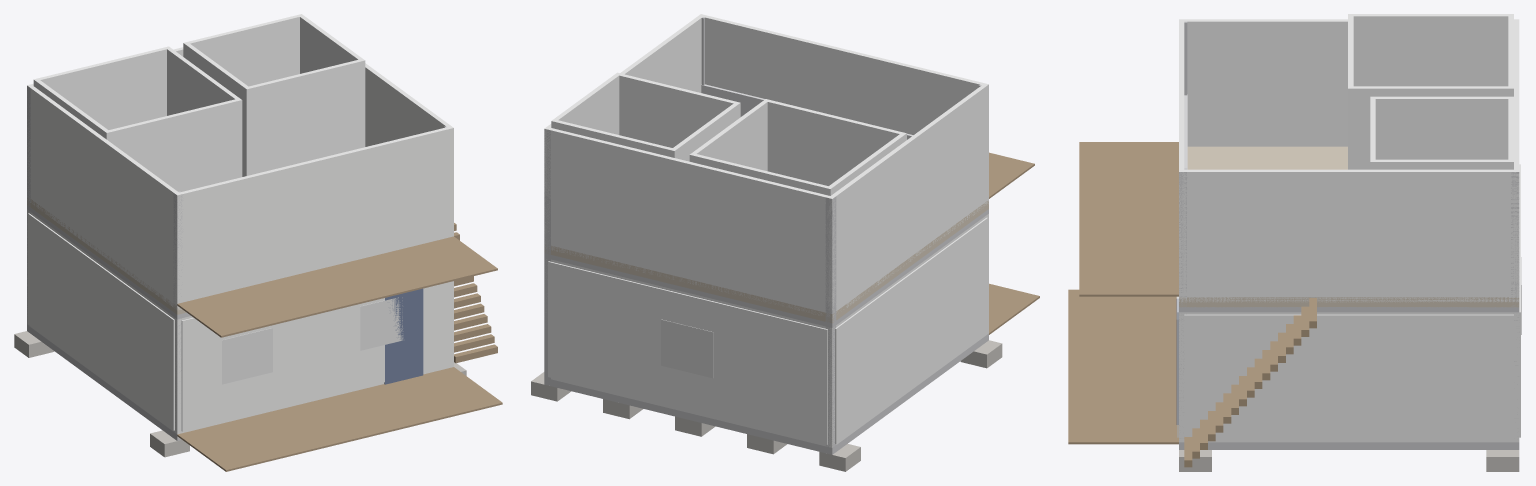
Rendered from Duplex-20-TerraceDeck-LOD1.glb.
The picture shows the model from 3 angles, left to right: view 1: azimuth 30°, elevation 25°; view 2: azimuth 150°, elevation 25°; view 3: azimuth 270°, elevation 25°; orthographic projection. The views are drawn at different scales.
Parts seen in each view (by area): view 1: ExteriorShellUpper, ExteriorPanelsStandard, StudyUpper, BedroomUpper, BalconyUpper, TerraceDeck, WindowsStandard, BalconyGround, EntryDoor, StaircaseExternal, ExteriorShell, FoundationBlocks (+4 smaller); view 2: ExteriorShellUpper, ExteriorPanelsStandard, BedroomUpper, StudyUpper, FloorUpper, VerticalStructure, FoundationBlocks, BaseFrame, ExteriorShell, WindowsStandard, TopFrame, BalconyUpper (+3 smaller); view 3: ExteriorShellUpper, ExteriorPanelsStandard, TerraceDeck, BalconyUpper, BedroomUpper, StudyUpper, FloorUpper, BalconyGround, StaircaseExternal, ExteriorShell, BaseFrame, TopFrame (+2 smaller).
Boxes of the visible parts, x1,y1,x2,y2 form: ExteriorShellUpper: (27, 47, 453, 309); ExteriorPanelsStandard: (28, 213, 450, 431); StudyUpper: (183, 14, 365, 176); BedroomUpper: (33, 46, 242, 191); BalconyUpper: (177, 236, 497, 337); TerraceDeck: (177, 367, 502, 471); WindowsStandard: (222, 297, 403, 384); BalconyGround: (177, 367, 490, 459); EntryDoor: (384, 288, 423, 384); StaircaseExternal: (454, 223, 497, 363); ExteriorShell: (27, 209, 453, 434); FoundationBlocks: (14, 331, 466, 457); ExteriorShellUpper: (544, 14, 988, 318); ExteriorPanelsStandard: (548, 217, 987, 444); BedroomUpper: (689, 99, 906, 195); StudyUpper: (551, 72, 740, 161); FloorUpper: (544, 201, 988, 323); VerticalStructure: (544, 17, 981, 447); FoundationBlocks: (531, 340, 1002, 471); BaseFrame: (544, 333, 988, 454); ExteriorShell: (545, 214, 988, 447); WindowsStandard: (661, 319, 713, 378); TopFrame: (544, 209, 988, 327); BalconyUpper: (989, 152, 1034, 198); ExteriorShellUpper: (1179, 19, 1519, 302); ExteriorPanelsStandard: (1177, 164, 1520, 440); TerraceDeck: (1068, 289, 1178, 444); BalconyUpper: (1079, 142, 1178, 296); BedroomUpper: (1348, 14, 1513, 169); StudyUpper: (1370, 96, 1513, 169); FloorUpper: (1179, 146, 1519, 307); BalconyGround: (1096, 296, 1178, 444); StaircaseExternal: (1184, 298, 1316, 467); ExteriorShell: (1179, 312, 1519, 442); BaseFrame: (1179, 442, 1519, 449); TopFrame: (1179, 307, 1518, 312).
Size of the model in its own units: 7.94 by 6 by 8.2.
